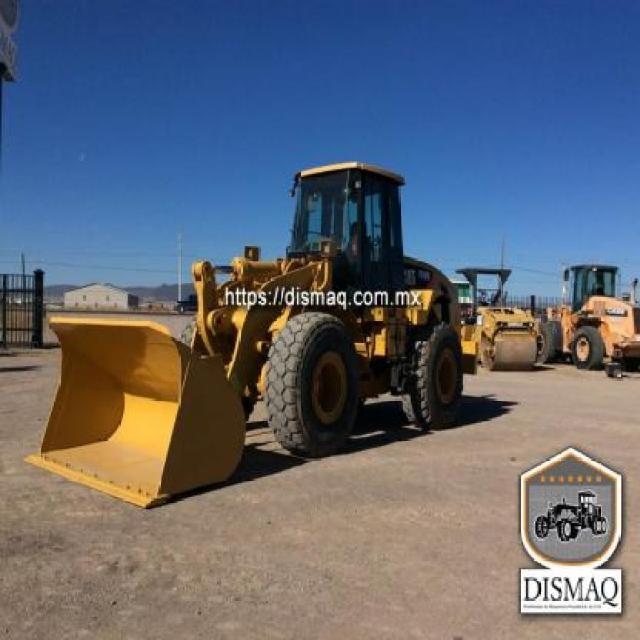buldozerpayloadergrader: (18, 148, 493, 522)
